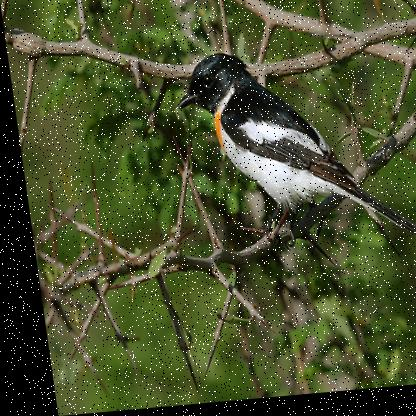Burung: (170, 41, 415, 277)
